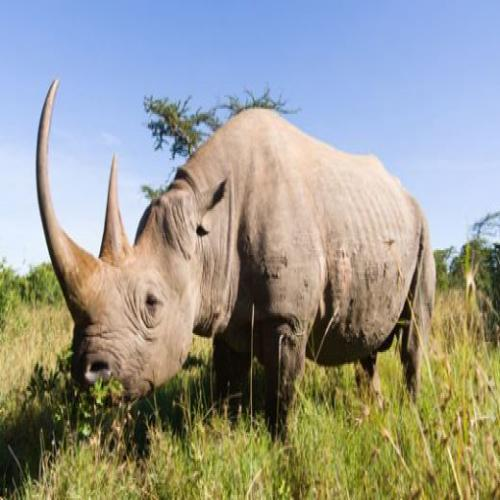rhino-endangered: (37, 76, 438, 413)
